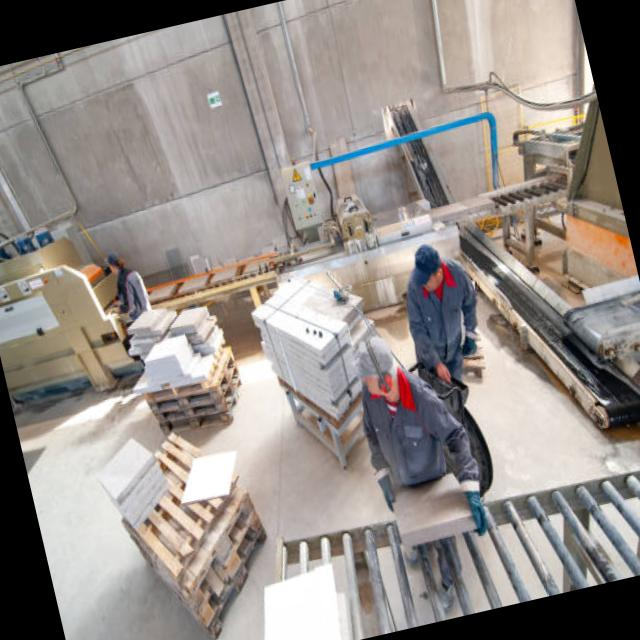Wooden-Pallets: (185, 485, 261, 621), (147, 350, 245, 436), (135, 336, 242, 410)
